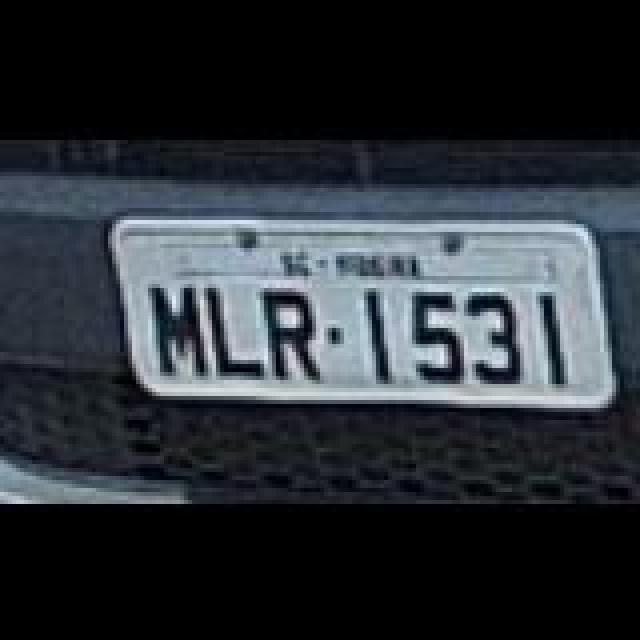1: (538, 292, 574, 388), (362, 290, 398, 382)
3: (464, 288, 528, 384)
5: (404, 290, 468, 382)
L: (200, 284, 264, 380)
M: (148, 278, 212, 378)
R: (262, 284, 330, 380)
